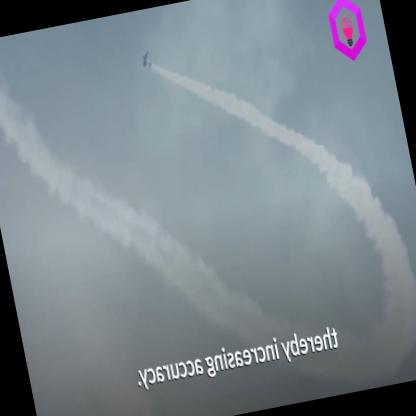plane: (134, 46, 154, 76)
